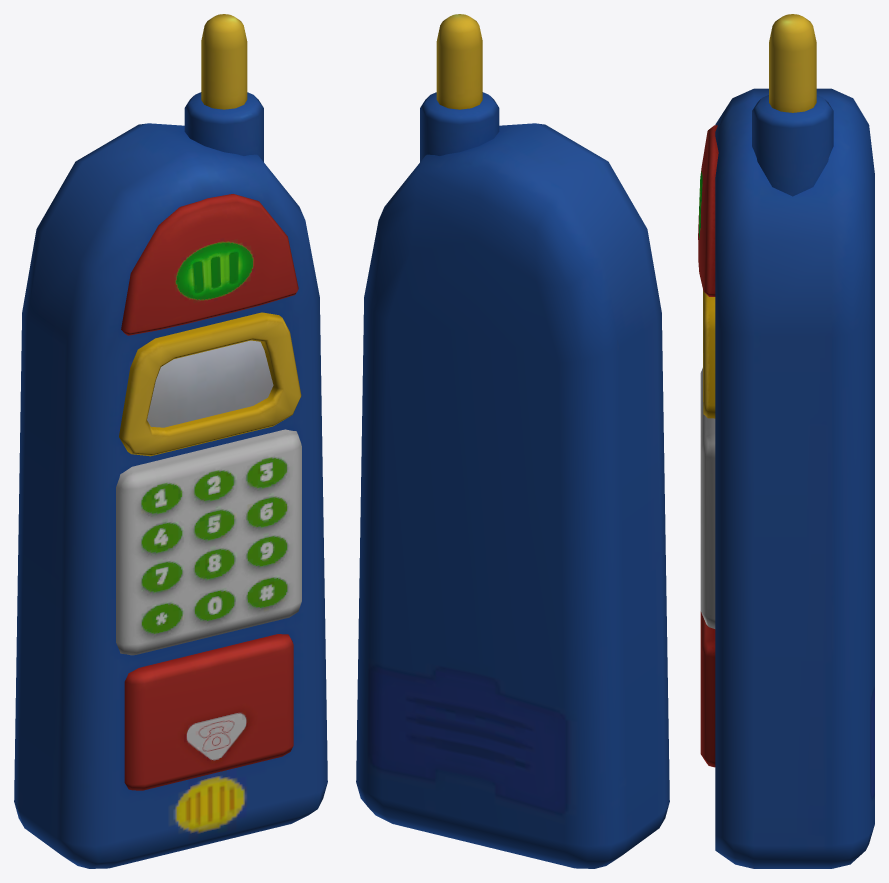
Rendered from 0-mobile_blue.fbx.
3 renders of one model, left to right at view 1: azimuth 30°, elevation 25°; view 2: azimuth 150°, elevation 25°; view 3: azimuth 270°, elevation 25°, orthographic. The views are drawn at different scales.
Parts seen in each view (by area): view 1: 0-mobile_blue; view 2: 0-mobile_blue; view 3: 0-mobile_blue.
Boxes of the visible parts, left/top/right/bottom form: 0-mobile_blue: left=14, top=14, right=327, bottom=868; 0-mobile_blue: left=356, top=14, right=669, bottom=868; 0-mobile_blue: left=698, top=14, right=874, bottom=868.
Bounding box in the file's own units: 33.76 × 96.62 × 18.75.
